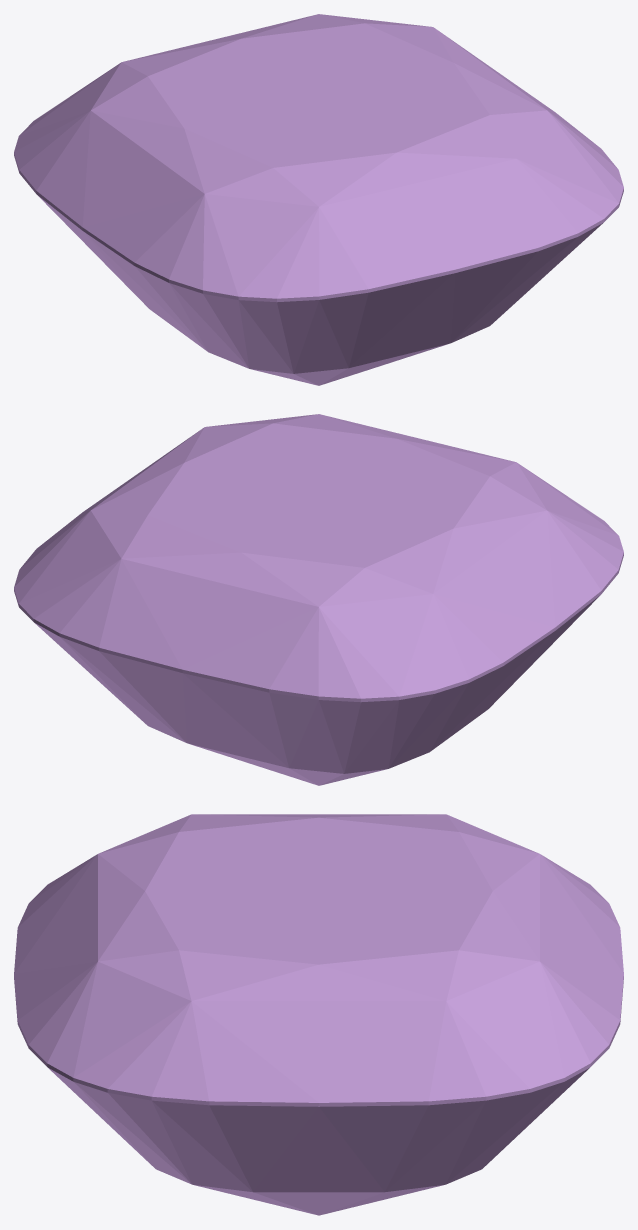
File: jewelry.glb
3 views of the same model, one above another, from view 1: azimuth 30°, elevation 25°; view 2: azimuth 150°, elevation 25°; view 3: azimuth 270°, elevation 25° (orthographic). The views are drawn at different scales.
Visible parts, largest first — view 1: Gemstone Spinel; view 2: Gemstone Spinel; view 3: Gemstone Spinel.
Part boxes in pixels (x1,y1,x2,y2): Gemstone Spinel: [14, 14, 623, 385]; Gemstone Spinel: [14, 414, 623, 785]; Gemstone Spinel: [14, 814, 623, 1215].
Bounding box in the file's own units: 2.2 × 1.29 × 2.2.
